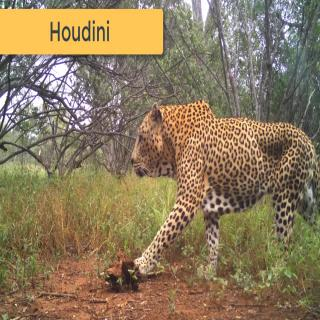Leopard: (115, 65, 320, 290)
